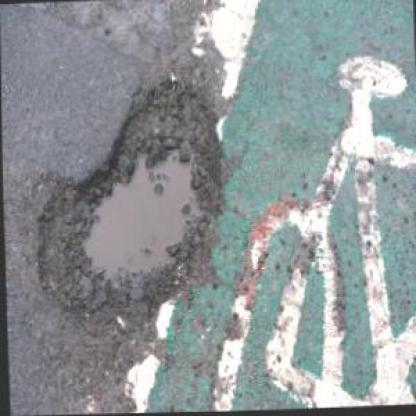pothole: (31, 75, 230, 331)
